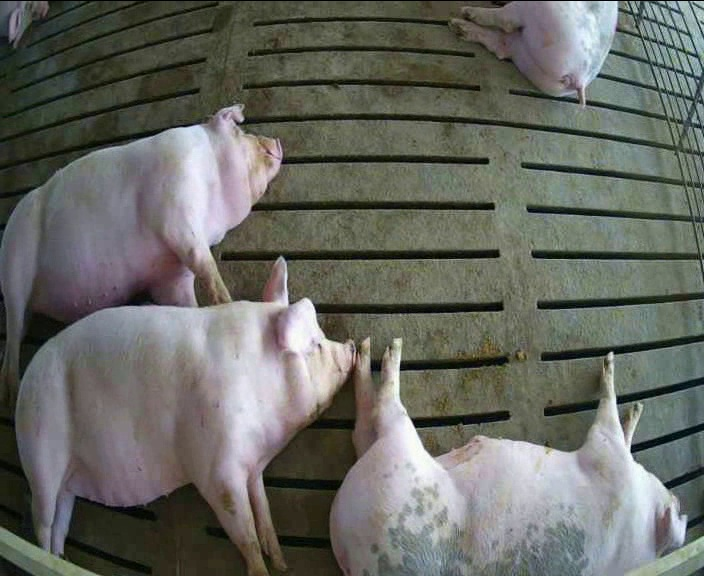pig: (16, 258, 354, 573), (0, 105, 281, 402), (330, 339, 685, 574), (449, 1, 617, 106)
